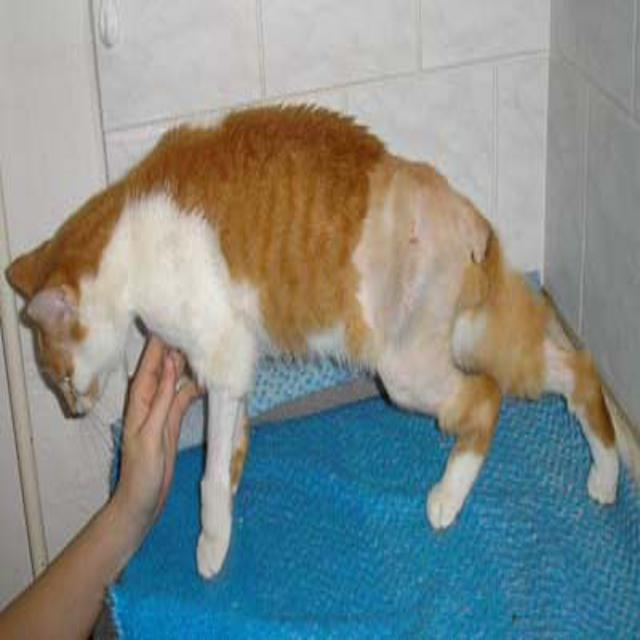hairloss: (93, 230, 245, 427), (363, 169, 461, 405)
